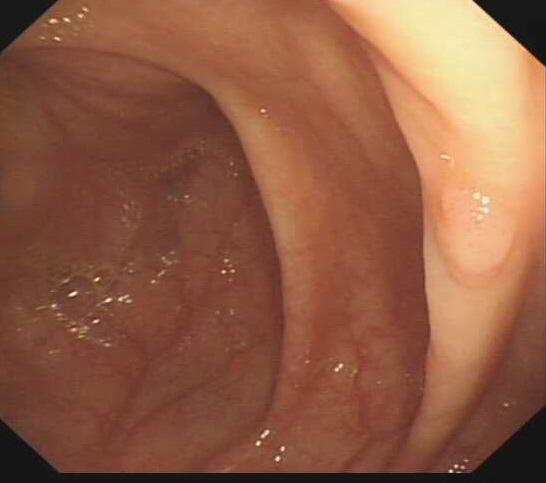others: (432, 183, 514, 289)
